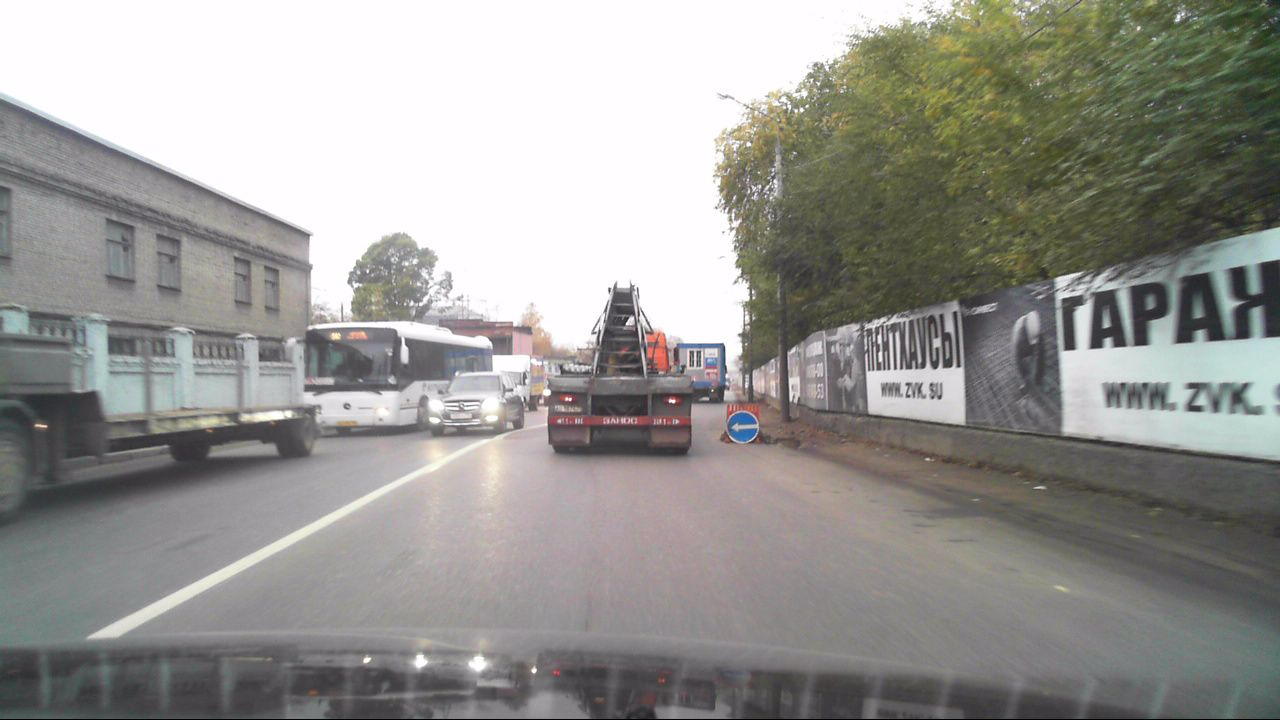Turn Left: (726, 410, 759, 443)
